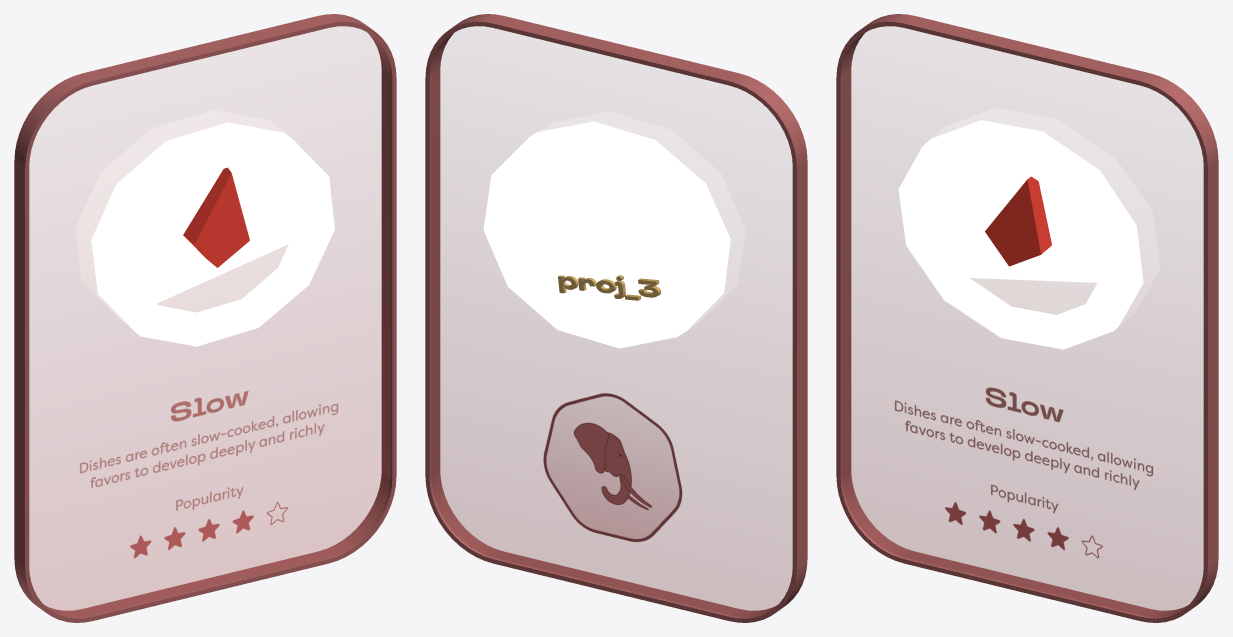
Rendered from slow.glb.
3 views of the same model, side by side, from view 1: azimuth 30°, elevation 25°; view 2: azimuth 150°, elevation 25°; view 3: azimuth 330°, elevation 25° (orthographic).
Parts seen in each view (by area): view 1: Bhai_Card.tex.018, group329809162.003, Bhai_Card.out.018; view 2: Bhai_Card.tex.018, group329809162.003, Bhai_Card.out.018; view 3: Bhai_Card.tex.018, group329809162.003, Bhai_Card.out.018.
Boxes of the visible parts, box(x1,y1,x2,y2) form: Bhai_Card.tex.018: box(29, 146, 390, 616); group329809162.003: box(75, 110, 334, 346); Bhai_Card.out.018: box(14, 14, 396, 622); Bhai_Card.tex.018: box(431, 146, 792, 616); group329809162.003: box(483, 111, 745, 348); Bhai_Card.out.018: box(425, 14, 807, 622); Bhai_Card.tex.018: box(842, 146, 1203, 616); group329809162.003: box(898, 108, 1160, 349); Bhai_Card.out.018: box(836, 14, 1218, 622).
Size of the model in its own units: 1.81 by 2.51 by 0.2939.
6 materials, 3 textured.
